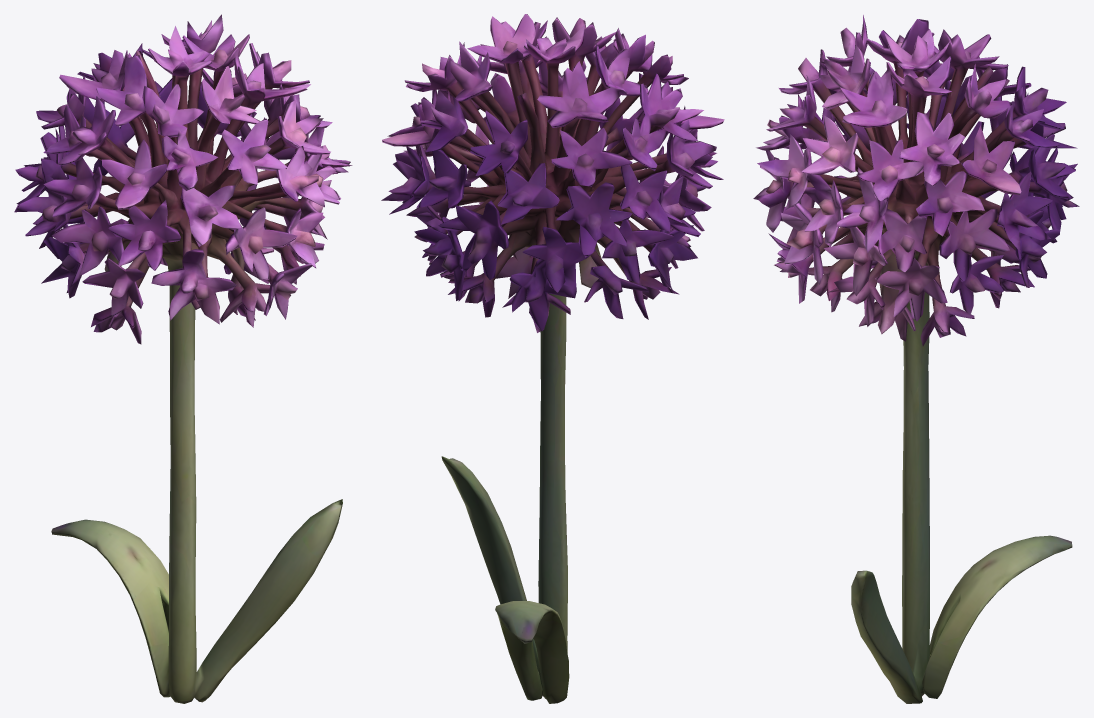
The model's file is allium-bloom.glb.
The picture shows the model from 3 angles, left to right: view 1: azimuth 30°, elevation 25°; view 2: azimuth 150°, elevation 25°; view 3: azimuth 270°, elevation 25°; orthographic projection.
Visible parts, largest first — view 1: tripo_node_01a22161-5592-7080-bea4-ca3432ecc4e0; view 2: tripo_node_01a22161-5592-7080-bea4-ca3432ecc4e0; view 3: tripo_node_01a22161-5592-7080-bea4-ca3432ecc4e0.
Part boxes in pixels (box(x1,y1,x2,y2)): tripo_node_01a22161-5592-7080-bea4-ca3432ecc4e0: box(14, 14, 352, 703); tripo_node_01a22161-5592-7080-bea4-ca3432ecc4e0: box(381, 14, 724, 703); tripo_node_01a22161-5592-7080-bea4-ca3432ecc4e0: box(753, 15, 1079, 703).
Size of the model in its own units: 0.4823 by 1 by 0.4489.
Materials: 1 (1 with a texture image).
